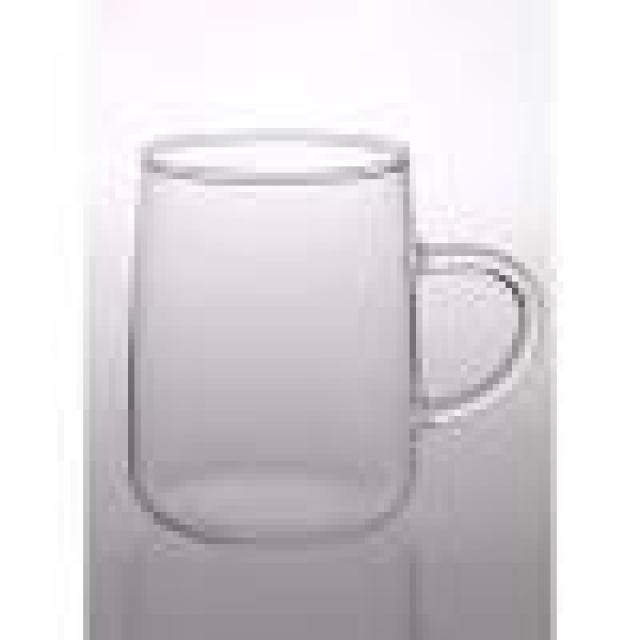non-organic waste: (125, 131, 541, 541)
